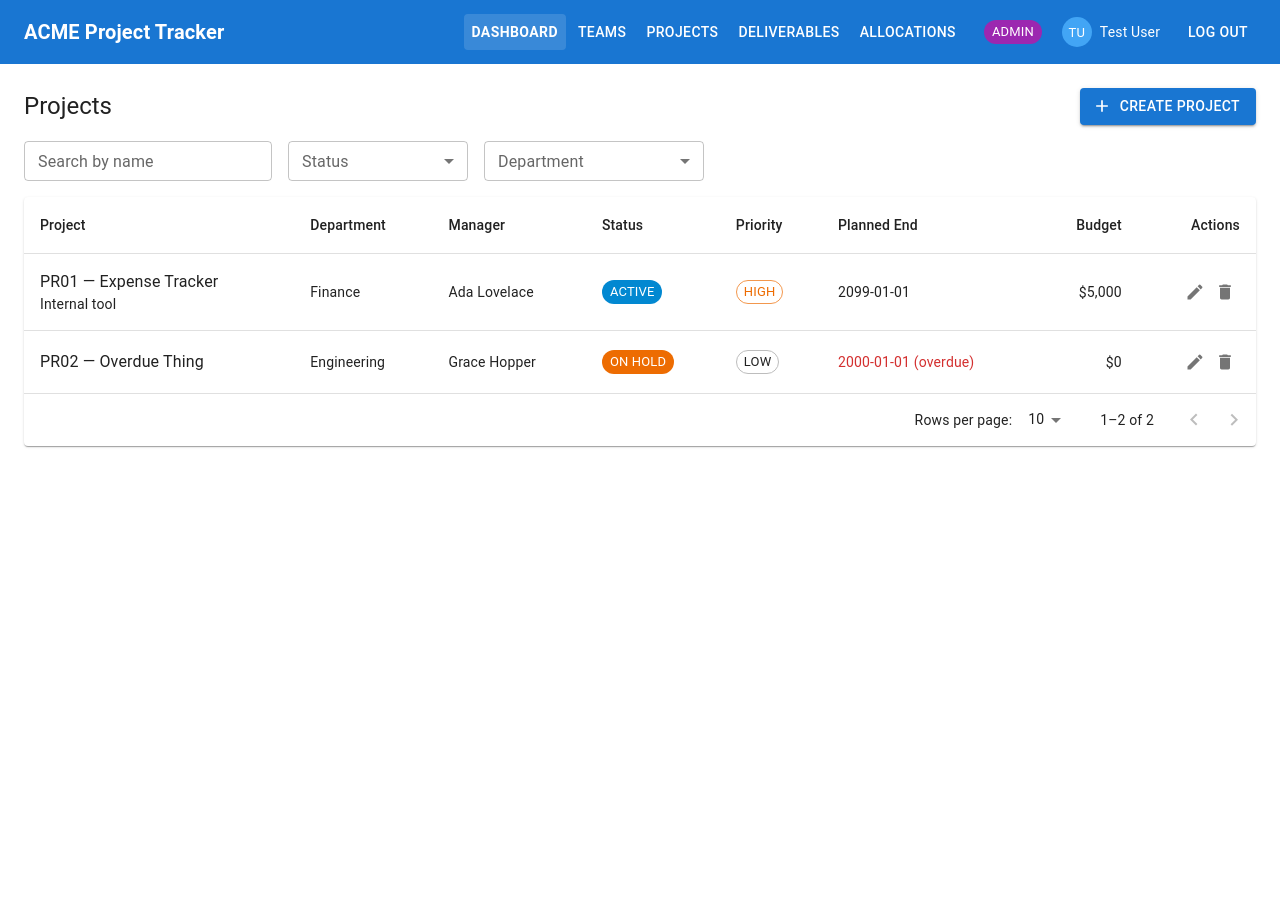
Test case: delete flow › surfaces the backend hint alongside the error message when delete fails
Expected: the text "PR01 — Expense Tracker" is shown, [40,272,218,290]
Click the 4th button.
click(1225, 292)  # box [1210,276,1240,306]
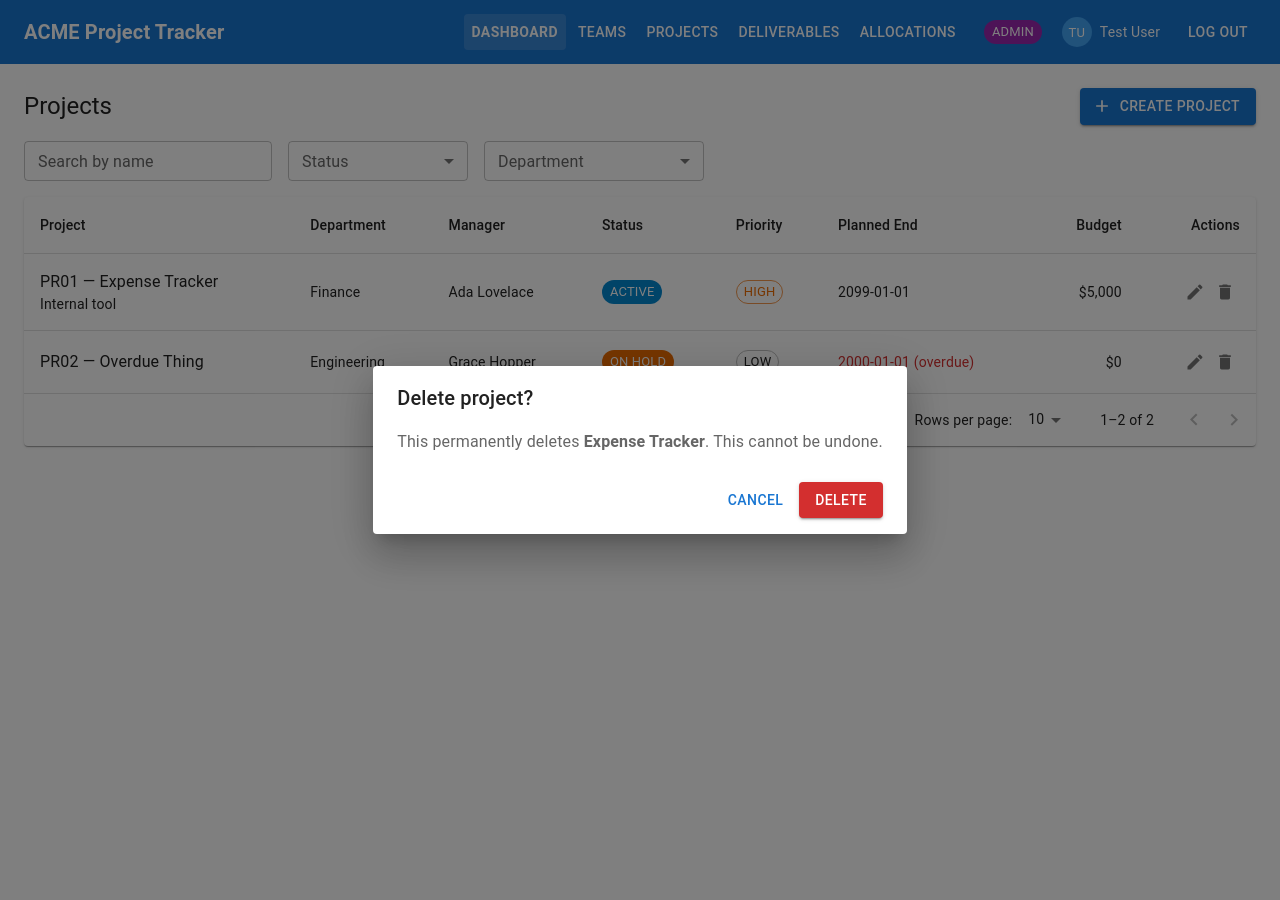
Click the button "Delete".
click(841, 500)  # box [799,482,883,518]
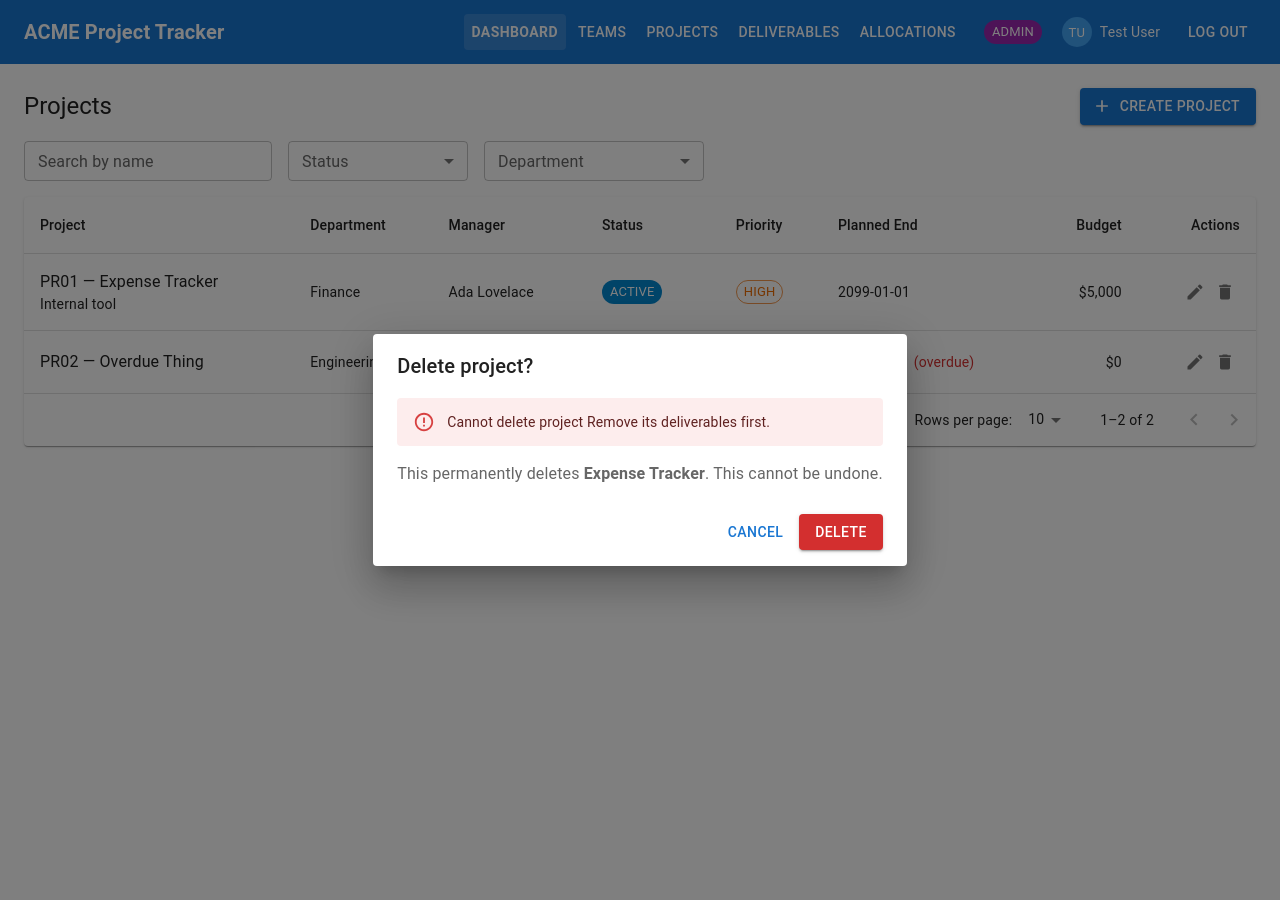
Now the text "Cannot delete project Remove its deliverables first." is shown, box [447,414,770,430]
